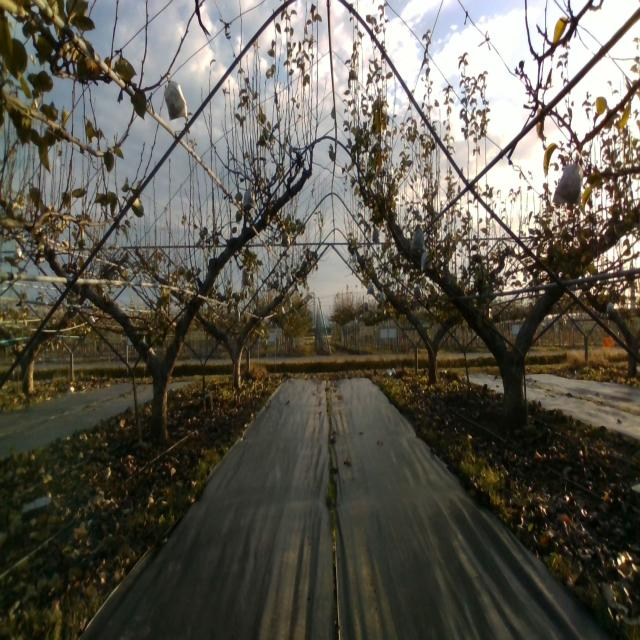pearbags: (552, 151, 583, 207), (164, 73, 188, 122), (242, 182, 256, 212), (410, 227, 426, 253), (421, 249, 433, 272), (242, 269, 252, 288)
